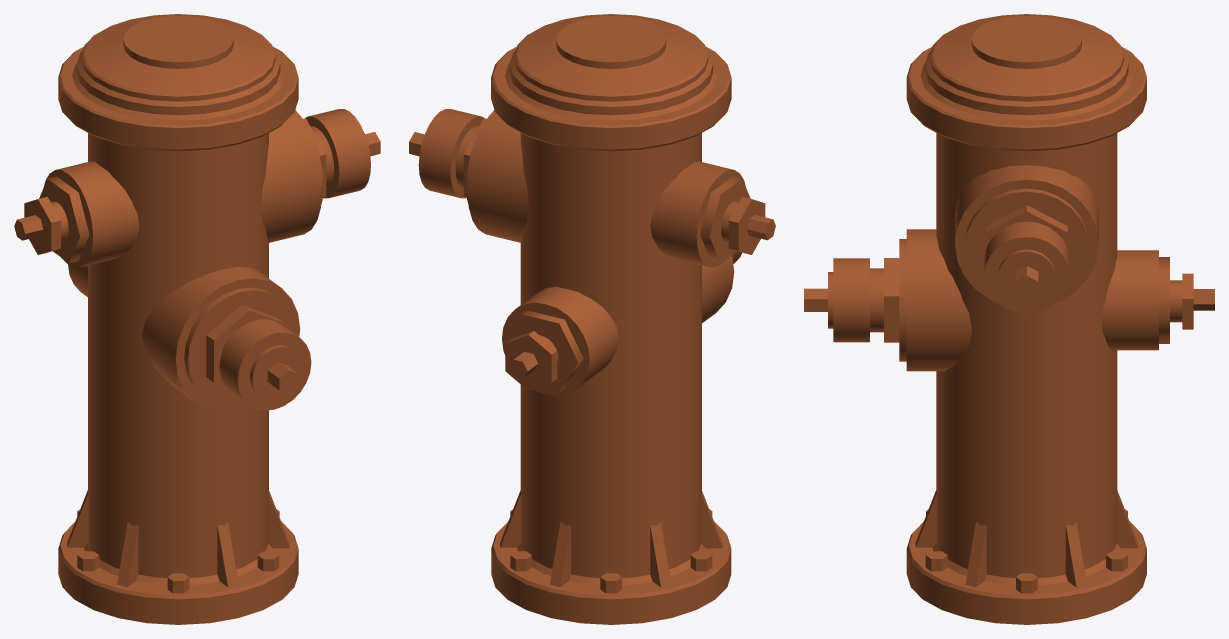
File: mcp_fire_hydrant_01_LOD_0.FBX
3 views of the same model, side by side, from view 1: azimuth 30°, elevation 25°; view 2: azimuth 150°, elevation 25°; view 3: azimuth 270°, elevation 25° (orthographic).
Visible parts, largest first — view 1: mcp_fire_hydrant_01; view 2: mcp_fire_hydrant_01; view 3: mcp_fire_hydrant_01.
Boxes of the visible parts, bbox=[...] form: mcp_fire_hydrant_01: bbox=[14, 14, 380, 624]; mcp_fire_hydrant_01: bbox=[409, 14, 775, 624]; mcp_fire_hydrant_01: bbox=[804, 14, 1214, 624].
Bounding box in the file's own units: 65.86 × 94.69 × 65.86.
